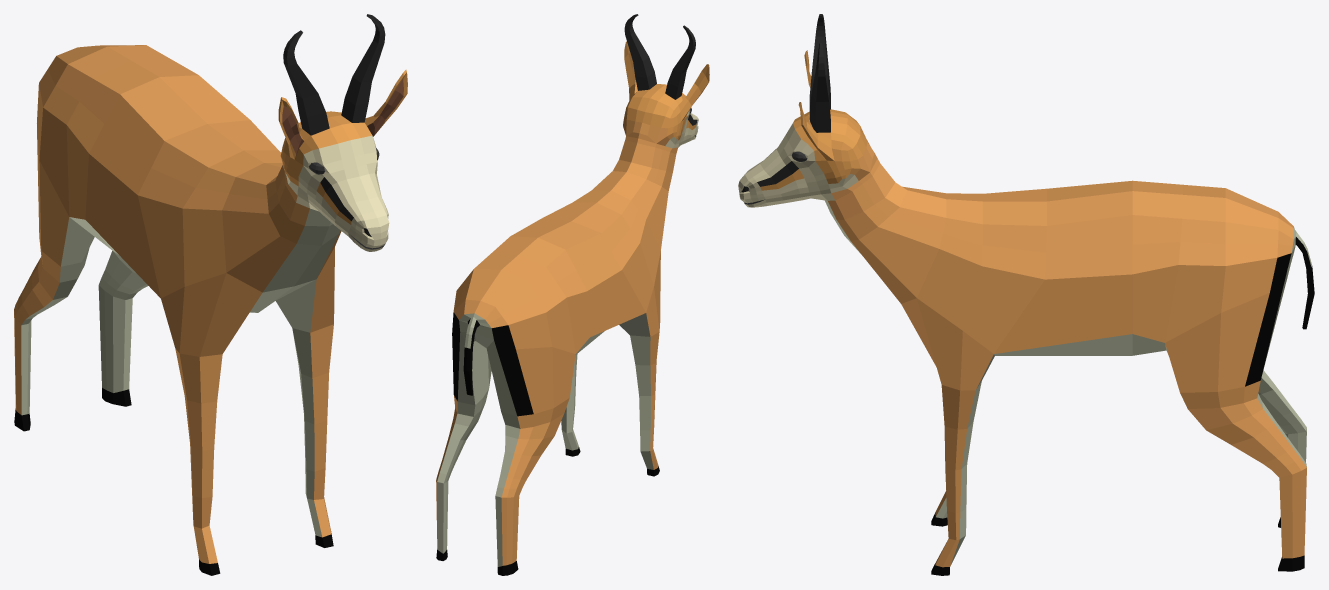
File: deer.fbx
The picture shows the model from 3 angles, left to right: view 1: azimuth 30°, elevation 25°; view 2: azimuth 150°, elevation 25°; view 3: azimuth 270°, elevation 25°; orthographic projection. The views are drawn at different scales.
Visible parts, largest first — view 1: body; view 2: body; view 3: body.
Part boxes in pixels (box(x1,y1,x2,y2)): body: box(14, 14, 407, 575); body: box(436, 14, 709, 575); body: box(738, 14, 1314, 575).
Bounding box in the file's own units: 43.37 × 157 × 158.
